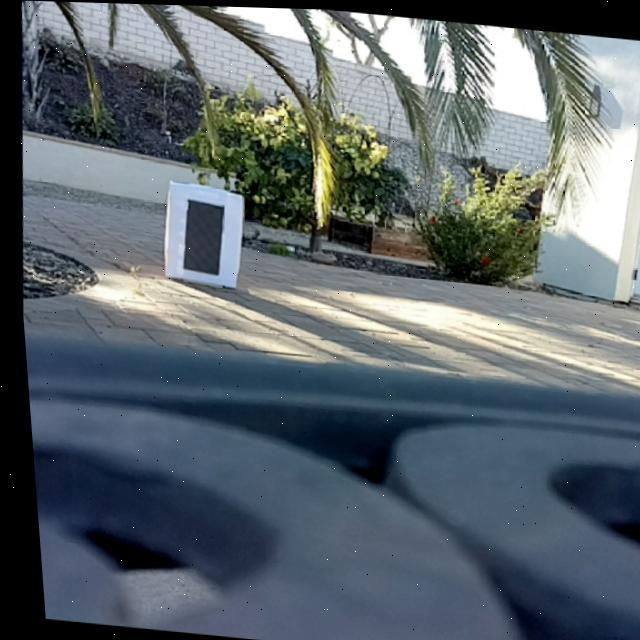led: (177, 198, 223, 273)
